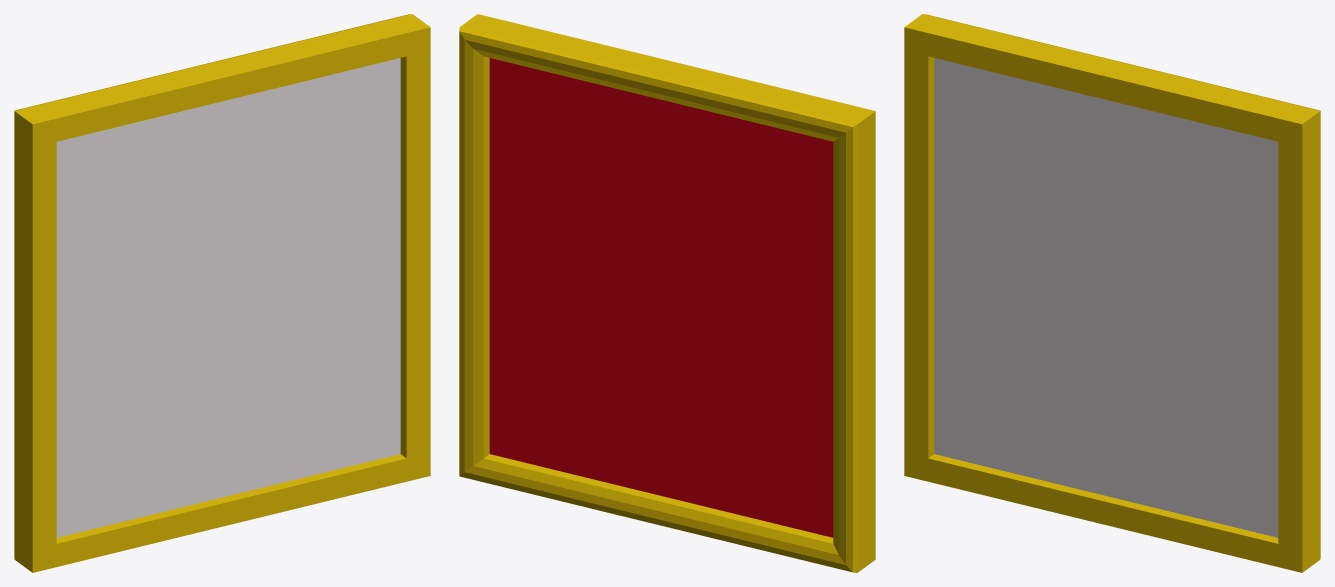
File: mdl_painting_destroyed.fbx
3 views of the same model, side by side, from view 1: azimuth 30°, elevation 25°; view 2: azimuth 150°, elevation 25°; view 3: azimuth 330°, elevation 25° (orthographic).
Parts seen in each view (by area): view 1: mdl_painting, mdl_painting_frame2, mdl_painting_frame1; view 2: mdl_painting, mdl_painting_frame2, mdl_painting_frame1; view 3: mdl_painting, mdl_painting_frame2, mdl_painting_frame1.
Part boxes in pixels (x1,y1,x2,y2): mdl_painting: (14,58,400,537); mdl_painting_frame2: (14,251,430,572); mdl_painting_frame1: (211,14,430,257); mdl_painting: (489,58,875,537); mdl_painting_frame2: (459,253,875,572); mdl_painting_frame1: (459,14,676,257); mdl_painting: (904,14,1278,537); mdl_painting_frame2: (904,251,1320,572); mdl_painting_frame1: (1103,62,1320,348).
Size of the model in its own units: 0.7558 by 0.8143 by 0.0701.
